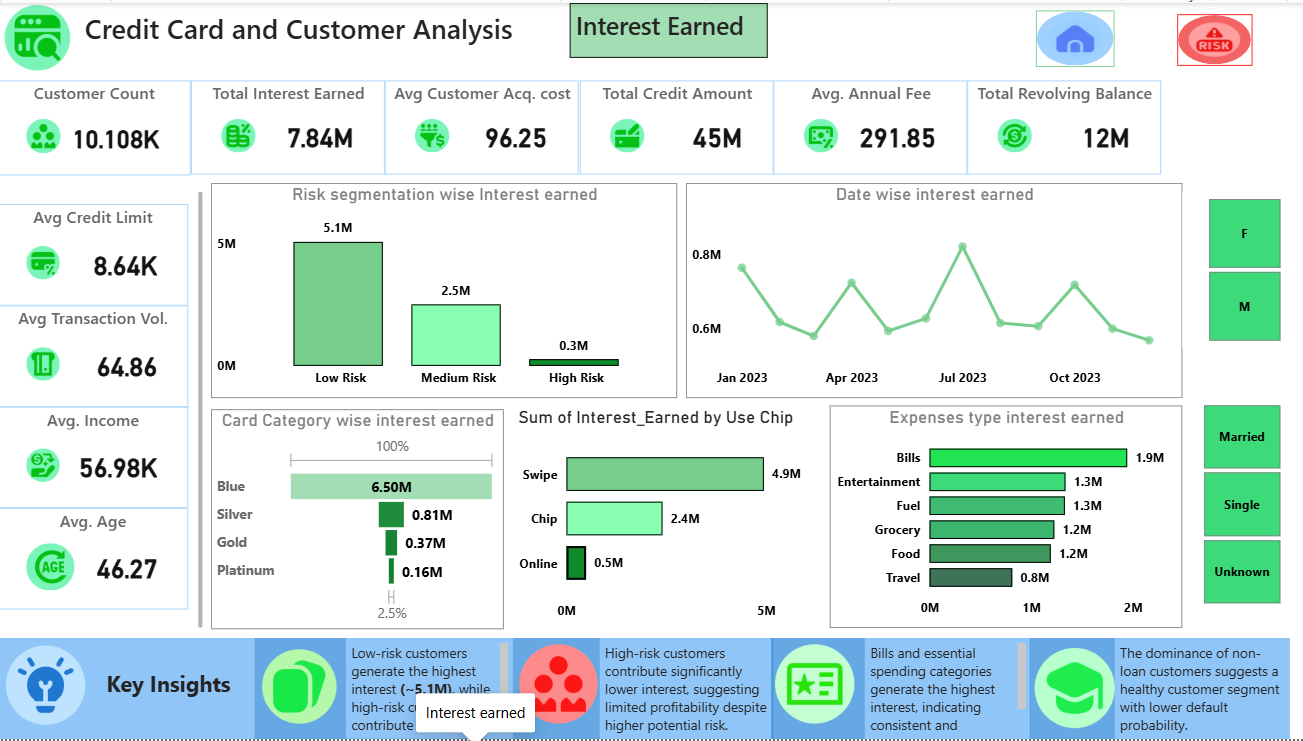

The dashboard page shown, as its layout file describes it:
{"tool":"powerbi","page":{"name":"Interest earned","canvas":[1280,720],"ordinal":2},"visuals":[{"type":"textbox","box":[918.3,0,362,61.1],"z":0,"group":"g2"},{"type":"textbox","box":[8.6,1.2,541.7,52.6],"z":0,"group":"g3"},{"type":"cardVisual","title":"Customer Count","fields":{"Data":["Count(credit_card.Client_Num)"]},"box":[0,75.8,190.8,92.9],"z":0,"group":"g5"},{"type":"shape","box":[179.8,184.6,40.4,426.8],"z":0},{"type":"textbox","box":[0,620.9,253.3,99],"z":0,"group":"g7"},{"type":"textbox","box":[342.2,620.9,163.6,98.5],"z":0,"group":"g8"},{"type":"textbox","box":[590.3,620.9,170.3,99],"z":0,"group":"g9"},{"type":"textbox","box":[849.1,620.9,162.5,99],"z":0,"group":"g10"},{"type":"textbox","box":[1094.1,620.9,171.6,99],"z":0,"group":"g11"},{"type":"cardVisual","title":"Total Interest Earned","fields":{"Data":["Sum(credit_card.Interest_Earned)"]},"box":[190.8,75.8,189.5,91.7],"z":1000,"group":"g5"},{"type":"group","id":"g1","title":"Group 1","box":[0,176.1,666.4,435.9],"z":1000},{"type":"columnChart","title":"Risk segmentation wise Interest earned","fields":{"Category":["credit_card.risk_segmentation"],"Y":["Sum(credit_card.Interest_Earned)"]},"box":[210.3,176.1,456.1,210.3],"z":1000,"group":"g1"},{"type":"image","box":[506,627,88,77.5],"z":1000,"group":"g9"},{"type":"image","box":[757.8,627,85,77.5],"z":1000,"group":"g10"},{"type":"image","box":[4.7,627.7,87.8,77.5],"z":1000,"group":"g7"},{"type":"image","box":[1011,630.4,87.6,78.3],"z":1000,"group":"g11"},{"type":"image","box":[253,632.1,87.7,72.9],"z":1000,"group":"g8"},{"type":"cardVisual","title":"Avg Customer Acq. cost","fields":{"Data":["Avg(credit_card.Customer_Acq_Cost)"]},"box":[380.3,75.8,189.5,91.7],"z":2000,"group":"g5"},{"type":"lineChart","title":"Date wise interest earned","fields":{"Y":["Sum(credit_card.Interest_Earned)"],"Category":["credit_card.Week_Start_Date.Variation.Date Hierarchy.Year","credit_card.Week_Start_Date.Variation.Date Hierarchy.Quarter","credit_card.Week_Start_Date.Variation.Date Hierarchy.Month","credit_card.Week_Start_Date.Variation.Date Hierarchy.Day"]},"box":[675,176.1,485.5,210.3],"z":2000},{"type":"cardVisual","title":"Avg Credit Limit ","fields":{"Data":["Avg(credit_card.Credit_Limit)"]},"box":[0,196.9,188.3,99],"z":2000,"group":"g4"},{"type":"cardVisual","title":"Total Credit Amount ","fields":{"Data":["Sum(credit_card.Total_Trans_Amt)"]},"box":[571.1,75.8,189.5,91.7],"z":3000,"group":"g5"},{"type":"barChart","fields":{"Y":["Sum(credit_card.Interest_Earned)"],"Category":["credit_card.Use Chip"]},"box":[506.3,395,303.3,217.7],"z":3000},{"type":"cardVisual","title":"Total Revolving Balance","fields":{"Data":["Sum(credit_card.Total_Revolving_Bal)"]},"box":[950.1,75.8,189.5,91.7],"z":4000,"group":"g5"},{"type":"slicer","fields":{"Values":["customer.Gender"]},"box":[1160.5,184.6,119.8,152.9],"z":4000},{"type":"cardVisual","title":"Avg. Age","fields":{"Data":["Avg(customer.Customer_Age)"]},"box":[0,494,188.3,99],"z":4000,"group":"g4"},{"type":"slicer","fields":{"Values":["customer.Marital_Status"]},"box":[1155.6,386.4,124.7,207.9],"z":5000},{"type":"group","id":"g2","title":"Group 2","box":[918.3,0,362,61.1],"z":6000},{"type":"cardVisual","title":"Avg Transaction Vol.","fields":{"Data":["Avg(credit_card.Total_Trans_Vol)"]},"box":[0,295.9,188.3,99],"z":6000,"group":"g4"},{"type":"group","id":"g3","title":"Group 3","box":[8.6,1.2,542,66.2],"z":7000},{"type":"cardVisual","title":"Avg. Annual Fee","fields":{"Data":["Avg(credit_card.Annual_Fees)"]},"box":[760.6,75.8,189.5,91.7],"z":7000,"group":"g5"},{"type":"group","id":"g4","title":"Group 4","box":[0,196.9,188.3,396.2],"z":8000},{"type":"group","id":"g5","title":"Group 5","box":[0,75.8,1139.7,92.9],"z":9000},{"type":"cardVisual","title":"Avg. Income","fields":{"Data":["Avg(customer.Income)"]},"box":[0,395,188.3,99],"z":10000,"group":"g4"},{"type":"group","id":"g6","title":"Group 7","box":[0,620.9,1265.6,99],"z":10000},{"type":"barChart","title":"Expenses type interest earned  ","fields":{"Y":["Sum(credit_card.Interest_Earned)"],"Category":["credit_card.Exp Type"]},"box":[815.6,393.8,344.8,217.7],"z":11000},{"type":"funnel","title":"Card Category wise interest earned","fields":{"Y":["Sum(credit_card.Interest_Earned)"],"Category":["credit_card.Card_Category"]},"box":[210.3,397.4,286.1,215.2],"z":12000},{"type":"actionButton","box":[1017.4,7.3,77,55],"z":13000},{"type":"actionButton","box":[1155.6,11,73.4,50.1],"z":14000},{"type":"group","id":"g7","title":"Group 6","box":[0,620.9,253,99],"z":14000,"group":"g6"},{"type":"textbox","box":[561.3,0,193.2,53.8],"z":15000},{"type":"group","id":"g8","title":"Group 6","box":[253,620.9,253,99],"z":15000,"group":"g6"},{"type":"group","id":"g9","title":"Group 6","box":[506,620.9,254.2,99],"z":16000,"group":"g6"},{"type":"group","id":"g10","title":"Group 6","box":[757.8,620.9,253,99],"z":17000,"group":"g6"},{"type":"group","id":"g11","title":"Group 6","box":[1011,620.9,254.6,99],"z":18000,"group":"g6"},{"type":"tableEx","fields":{"Values":["credit_card.risk_segmentation"]},"box":[0,396,180,216],"z":18004,"group":"g1"},{"type":"image","box":[8.6,1.2,63.7,66],"z":20002,"group":"g3"}]}

Visuals, with their boxes in screenshot pixels (x1, y1, x2, y2), scaled from the page's 1280x720 canvas onto the 1303x741 screenshot:
textbox: <bbox>935, 0, 1302, 63</bbox>
textbox: <bbox>9, 1, 560, 55</bbox>
"Customer Count" cardVisual: <bbox>0, 78, 194, 174</bbox>
shape: <bbox>183, 190, 224, 629</bbox>
textbox: <bbox>0, 639, 258, 740</bbox>
textbox: <bbox>348, 639, 515, 740</bbox>
textbox: <bbox>601, 639, 774, 740</bbox>
textbox: <bbox>864, 639, 1030, 740</bbox>
textbox: <bbox>1114, 639, 1288, 740</bbox>
"Total Interest Earned" cardVisual: <bbox>194, 78, 387, 172</bbox>
"Group 1" group: <bbox>0, 181, 678, 630</bbox>
"Risk segmentation wise Interest earned" columnChart: <bbox>214, 181, 678, 398</bbox>
image: <bbox>515, 645, 605, 725</bbox>
image: <bbox>771, 645, 858, 725</bbox>
image: <bbox>5, 646, 94, 726</bbox>
image: <bbox>1029, 649, 1118, 729</bbox>
image: <bbox>258, 651, 347, 726</bbox>
"Avg Customer Acq. cost" cardVisual: <bbox>387, 78, 580, 172</bbox>
"Date wise interest earned" lineChart: <bbox>687, 181, 1181, 398</bbox>
"Avg Credit Limit " cardVisual: <bbox>0, 203, 192, 305</bbox>
"Total Credit Amount " cardVisual: <bbox>581, 78, 774, 172</bbox>
barChart - Sum(credit_card.Interest_Earned) x credit_card.Use Chip: <bbox>515, 407, 824, 631</bbox>
"Total Revolving Balance" cardVisual: <bbox>967, 78, 1160, 172</bbox>
slicer - customer.Gender: <bbox>1181, 190, 1302, 347</bbox>
"Avg. Age" cardVisual: <bbox>0, 508, 192, 610</bbox>
slicer - customer.Marital_Status: <bbox>1176, 398, 1302, 612</bbox>
"Group 2" group: <bbox>935, 0, 1302, 63</bbox>
"Avg Transaction Vol." cardVisual: <bbox>0, 305, 192, 406</bbox>
"Group 3" group: <bbox>9, 1, 560, 69</bbox>
"Avg. Annual Fee" cardVisual: <bbox>774, 78, 967, 172</bbox>
"Group 4" group: <bbox>0, 203, 192, 610</bbox>
"Group 5" group: <bbox>0, 78, 1160, 174</bbox>
"Avg. Income" cardVisual: <bbox>0, 407, 192, 508</bbox>
"Group 7" group: <bbox>0, 639, 1288, 740</bbox>
"Expenses type interest earned  " barChart: <bbox>830, 405, 1181, 629</bbox>
"Card Category wise interest earned" funnel: <bbox>214, 409, 505, 630</bbox>
actionButton: <bbox>1036, 8, 1114, 64</bbox>
actionButton: <bbox>1176, 11, 1251, 63</bbox>
"Group 6" group: <bbox>0, 639, 258, 740</bbox>
textbox: <bbox>571, 0, 768, 55</bbox>
"Group 6" group: <bbox>258, 639, 515, 740</bbox>
"Group 6" group: <bbox>515, 639, 774, 740</bbox>
"Group 6" group: <bbox>771, 639, 1029, 740</bbox>
"Group 6" group: <bbox>1029, 639, 1288, 740</bbox>
tableEx - credit_card.risk_segmentation: <bbox>0, 408, 183, 630</bbox>
image: <bbox>9, 1, 74, 69</bbox>
